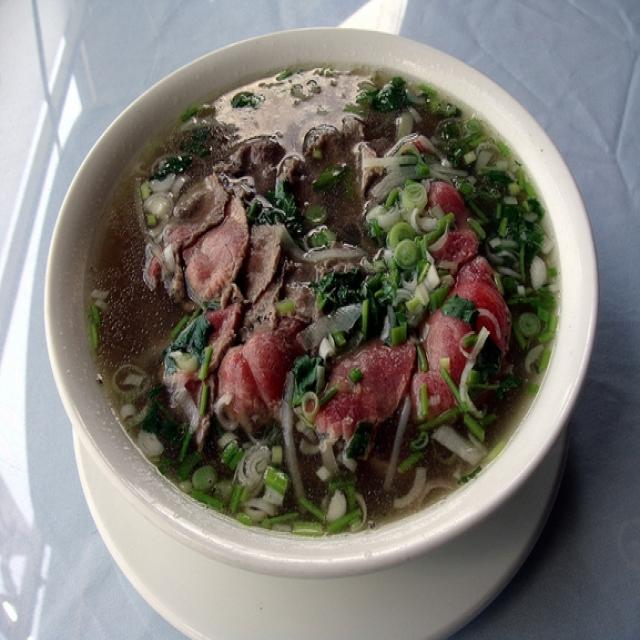面条主食: (30, 24, 616, 591)
